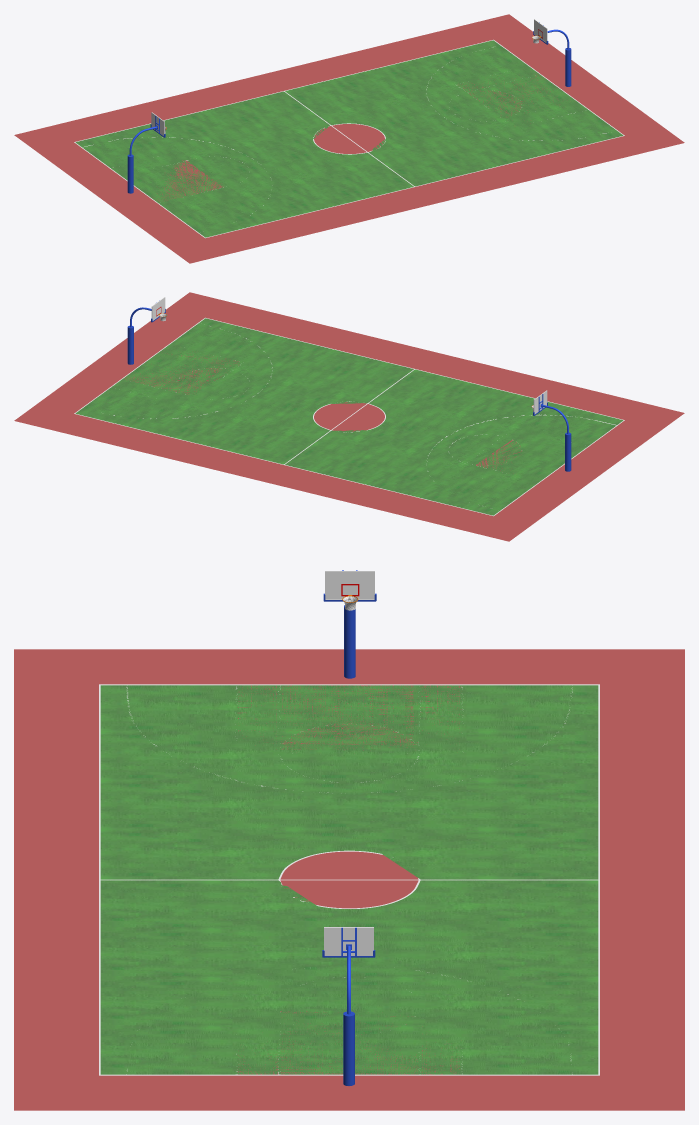
The model's file is Basketball+court.fbx.
The picture shows the model from 3 angles, top to bottom: view 1: azimuth 30°, elevation 25°; view 2: azimuth 150°, elevation 25°; view 3: azimuth 270°, elevation 25°; orthographic projection. The views are drawn at different scales.
Parts seen in each view (by area): view 1: Group2, Group13, Group24; view 2: Group2, Group13, Group24; view 3: Group2, Group24, Group13, Group21, Group10, Group12, Group23.
Part boxes in pixels (x1,y1,x2,y2): Group2: (14,14,684,263); Group13: (284,39,624,186); Group24: (74,91,414,238); Group2: (14,292,684,541); Group13: (74,317,414,464); Group24: (284,369,624,516); Group2: (14,649,684,1110); Group24: (99,684,599,879); Group13: (99,880,599,1075); Group21: (325,571,374,599); Group10: (324,927,373,955); Group12: (343,1011,354,1085); Group23: (344,605,355,678).
Size of the model in its own units: 2830 by 374 by 1740.
